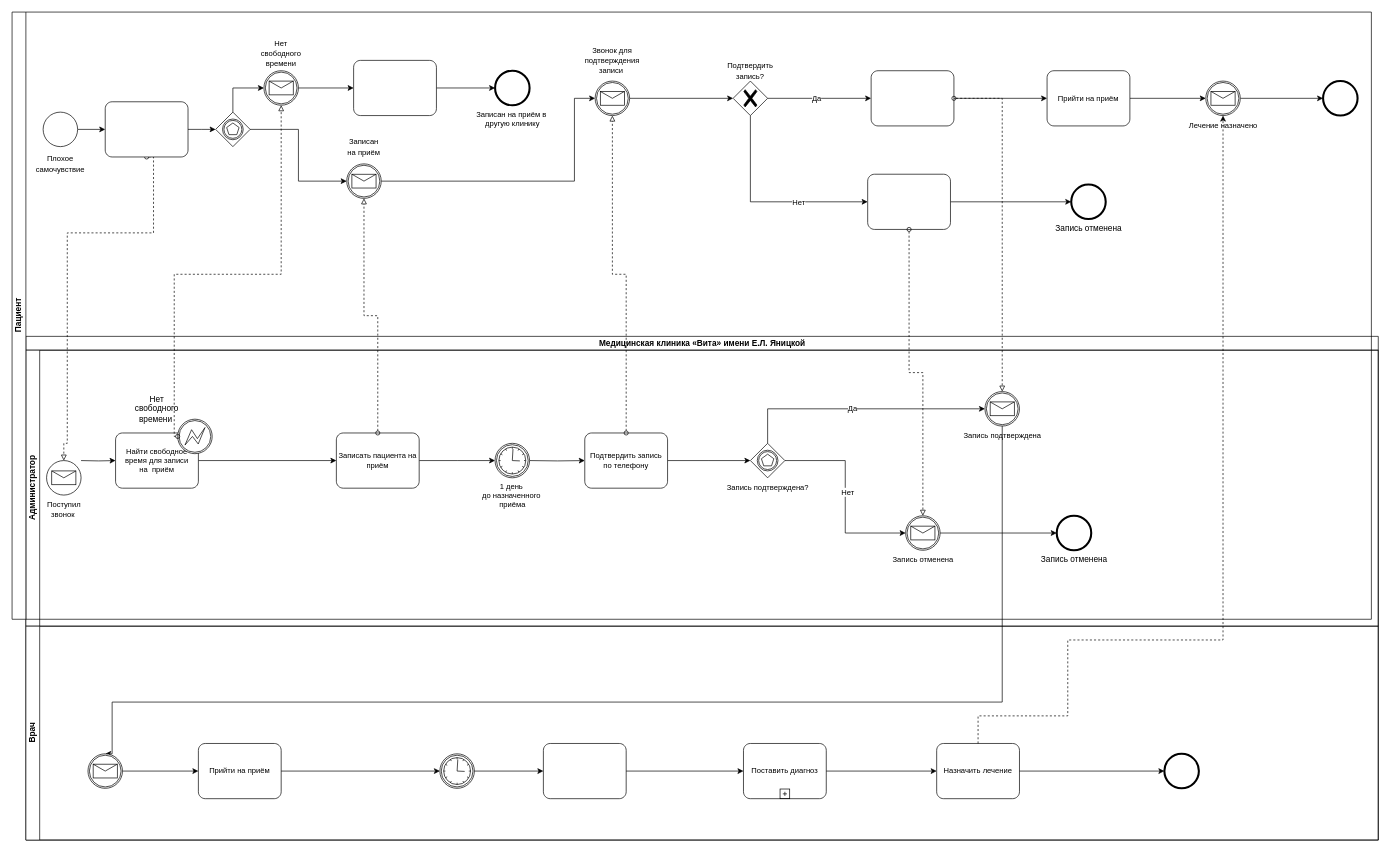
Some shapes in this 1390 by 852 pixel diagram are drawn without their labels. Here are the shapes that lost their labels. From the top down, the centre of each, then its label:
At point (394, 88): "Записаться на приём в другой медицинской клиники".
At point (912, 98): "Подтвердить запись".
At point (1340, 98): "Приём завершён".
At point (146, 129): "Записаться на приём по телефону".
At point (232, 129): "Есть свободное время?".
At point (908, 201): "Отменить запись".
At point (104, 770): "Пациент пришёл на приём".
At point (456, 770): "В день записи на приём".
At point (584, 771): "Принять пациента".
At point (1181, 770): "Оформлен протокол осмотра".
